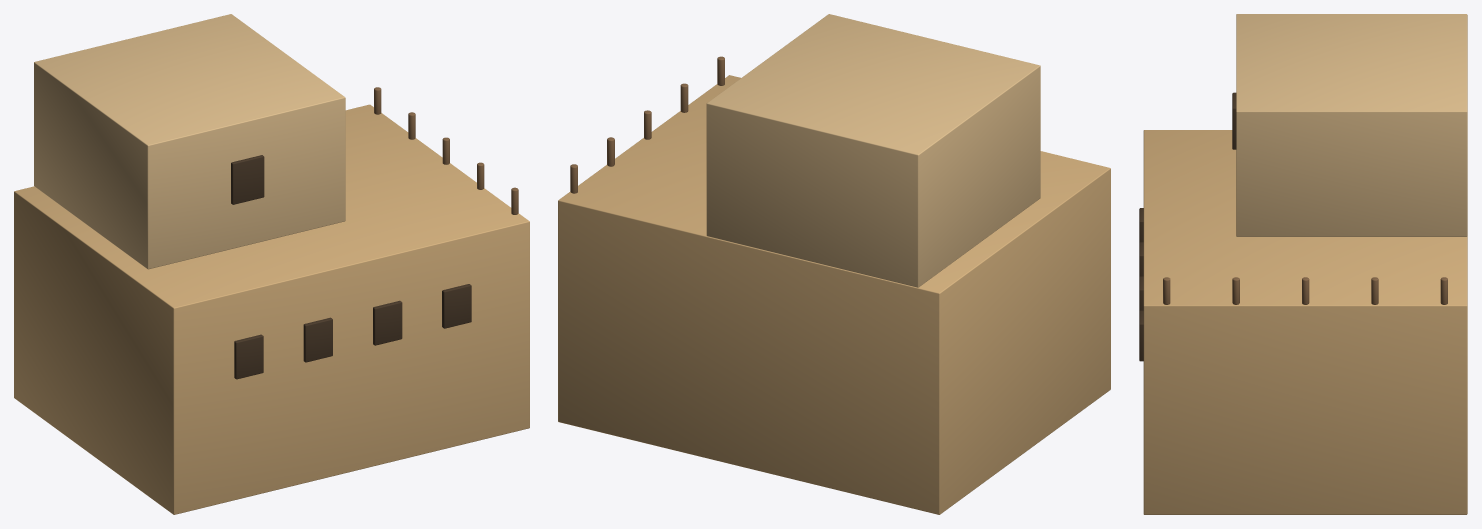
The model's file is rg_oriente_3.glb.
3 views of the same model, side by side, from view 1: azimuth 30°, elevation 25°; view 2: azimuth 150°, elevation 25°; view 3: azimuth 270°, elevation 25° (orthographic). The views are drawn at different scales.
Parts seen in each view (by area): view 1: rg_oriente_3; view 2: rg_oriente_3; view 3: rg_oriente_3.
Boxes of the visible parts, <box> form: rg_oriente_3: <box>14,14,529,514</box>; rg_oriente_3: <box>558,14,1110,514</box>; rg_oriente_3: <box>1139,14,1467,514</box>.
Bounding box in the file's own units: 9 × 8 × 7.09.
